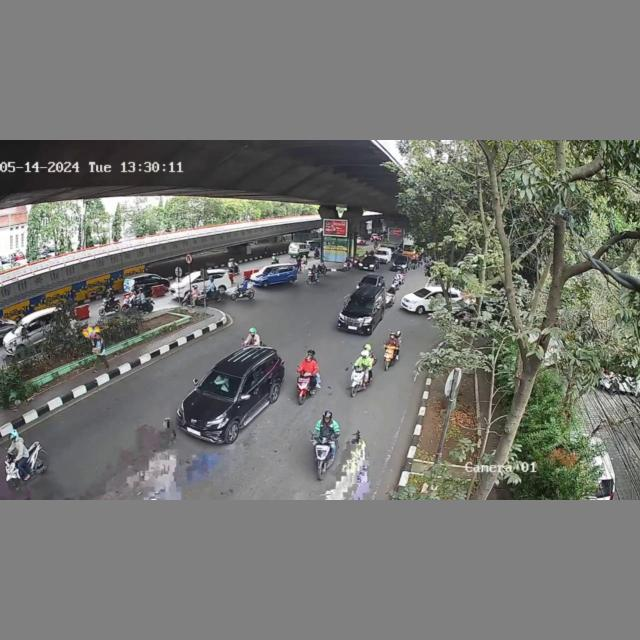windshield: (196, 369, 244, 398), (342, 293, 378, 311)
